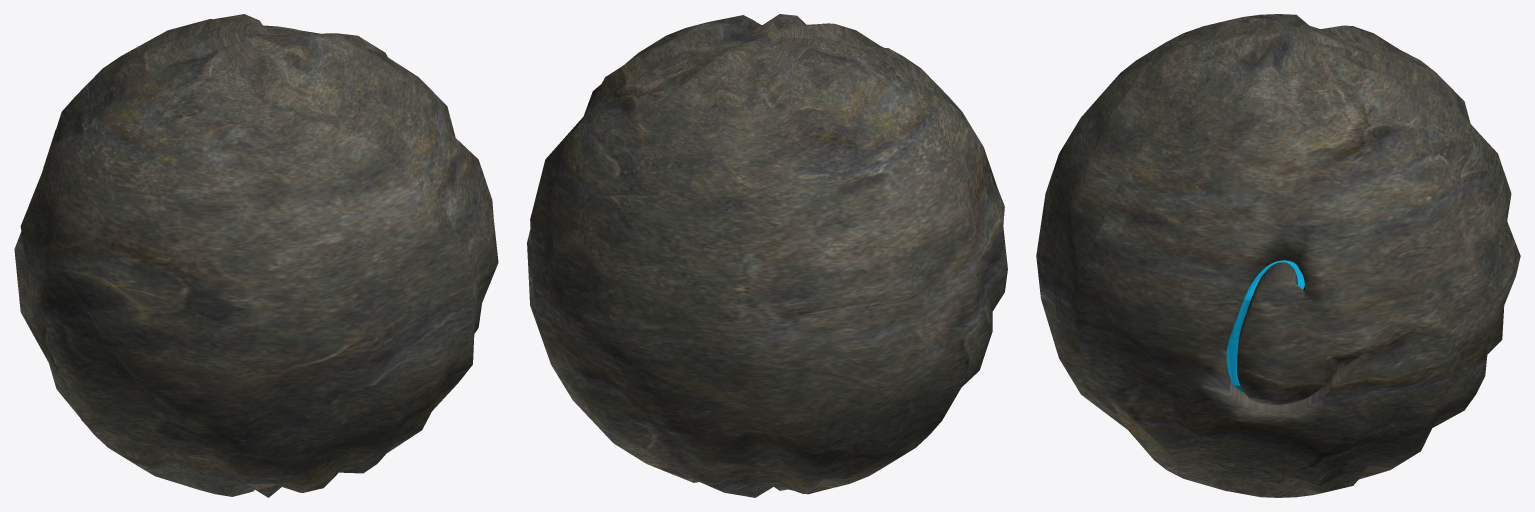
The model's file is Boulder (C).fbx.
3 views of the same model, side by side, from view 1: azimuth 30°, elevation 25°; view 2: azimuth 150°, elevation 25°; view 3: azimuth 270°, elevation 25° (orthographic).
Parts seen in each view (by area): view 1: Sphere.002; view 2: Sphere.002; view 3: Sphere.002.
Part boxes in pixels (x1,y1,x2,y2): Sphere.002: [14, 14, 498, 497]; Sphere.002: [527, 14, 1007, 497]; Sphere.002: [1036, 14, 1520, 497].
Size of the model in its own units: 210 by 208 by 210.
